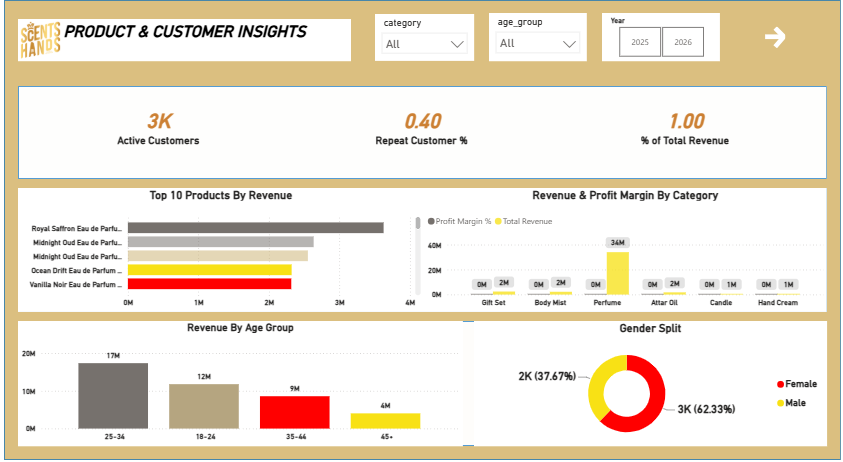

What the dashboard file says about the page in this screenshot:
{"tool":"powerbi","page":{"name":"Product & Customer Insights","canvas":[1280,720],"ordinal":2},"visuals":[{"type":"shape","box":[13.4,1.5,1249.3,686.6],"z":0},{"type":"textbox","box":[34.3,29.9,497,62.7],"z":1},{"type":"image","box":[0,29.9,135.8,62.7],"z":2},{"type":"shape","box":[34.3,129.9,1207.5,138.8],"z":3},{"type":"cardVisual","fields":{"Data":["Measures (2).Active Customers","Measures (2).Repeat Customer %","Measures (2).% of Total Revenue"]},"box":[34.3,129.9,1207.5,123.9],"z":4},{"type":"shape","box":[37.3,282.1,1204.5,185.1],"z":5},{"type":"shape","box":[34.3,480.6,1207.5,186.6],"z":6},{"type":"clusteredBarChart","title":"Top 10 Products By Revenue","fields":{"Y":["Measures (2).Total Revenue"],"Category":["dim_products.product_name"]},"box":[34.3,282.1,606,185.1],"z":7},{"type":"clusteredColumnChart","title":"Revenue & Profit Margin By Category","fields":{"Y":["Measures (2).Profit Margin %","Measures (2).Total Revenue"],"Category":["dim_products.category"]},"box":[640.3,282.1,601.5,185.1],"z":8},{"type":"clusteredColumnChart","title":"Revenue By Age Group","fields":{"Category":["dim_customers.age_group"],"Y":["Measures (2).Total Revenue"]},"box":[34.3,480.6,664.2,186.6],"z":9},{"type":"donutChart","title":"Gender Split","fields":{"Category":["dim_customers.gender"],"Y":["Measures (2).Total Orders"]},"box":[714.9,480.6,526.9,186.6],"z":10},{"type":"slicer","fields":{"Values":["dim_products.category"]},"box":[567.2,22.4,147.8,70.1],"z":11},{"type":"slicer","fields":{"Values":["dim_customers.age_group"]},"box":[737.3,20.9,146.3,71.6],"z":12},{"type":"slicer","fields":{"Values":["dim_calendar.year"]},"box":[906,20.9,176.1,71.6],"z":13},{"type":"actionButton","box":[1113.4,37.3,100,40],"z":14}]}

Visuals, with their boxes in screenshot pixels (x1, y1, x2, y2), scaled from the page's 1280x720 canvas onto the 843x462 screenshot:
shape: (left=9, top=1, right=832, bottom=442)
textbox: (left=23, top=19, right=350, bottom=59)
image: (left=0, top=19, right=89, bottom=59)
shape: (left=23, top=83, right=818, bottom=172)
cardVisual - Measures (2).Active Customers x Measures (2).Repeat Customer %: (left=23, top=83, right=818, bottom=163)
shape: (left=25, top=181, right=818, bottom=300)
shape: (left=23, top=308, right=818, bottom=428)
"Top 10 Products By Revenue" clusteredBarChart: (left=23, top=181, right=422, bottom=300)
"Revenue & Profit Margin By Category" clusteredColumnChart: (left=422, top=181, right=818, bottom=300)
"Revenue By Age Group" clusteredColumnChart: (left=23, top=308, right=460, bottom=428)
"Gender Split" donutChart: (left=471, top=308, right=818, bottom=428)
slicer - dim_products.category: (left=374, top=14, right=471, bottom=59)
slicer - dim_customers.age_group: (left=486, top=13, right=582, bottom=59)
slicer - dim_calendar.year: (left=597, top=13, right=713, bottom=59)
actionButton: (left=733, top=24, right=799, bottom=50)
